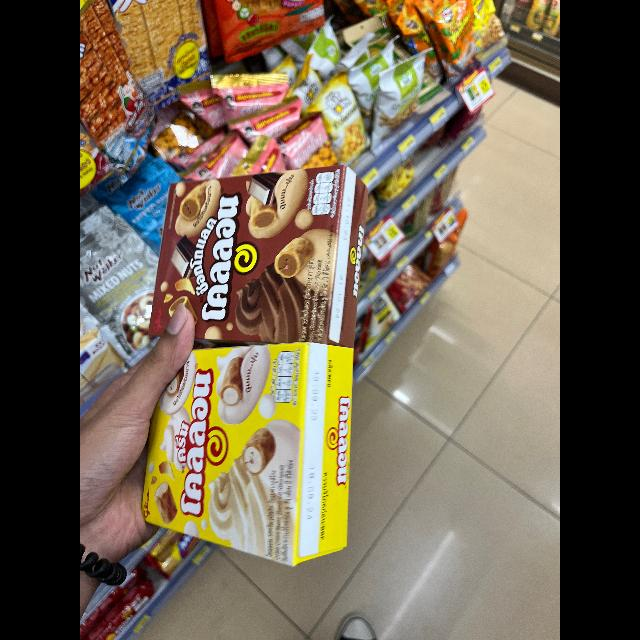cardboard_box: (124, 333, 366, 574), (130, 160, 378, 362)
